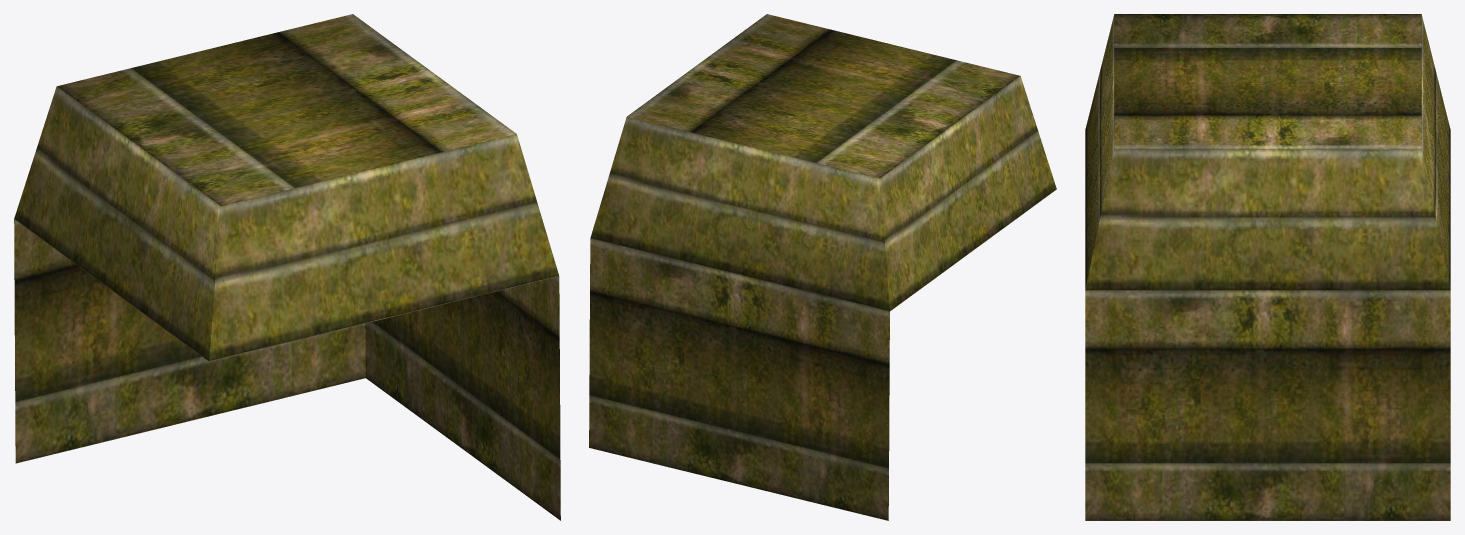
Rendered from OVERHILL_A_01_OBJECT291.fbx.
3 views of the same model, side by side, from view 1: azimuth 30°, elevation 25°; view 2: azimuth 150°, elevation 25°; view 3: azimuth 270°, elevation 25° (orthographic). The views are drawn at different scales.
Parts seen in each view (by area): view 1: OVERHILL_A_01_OBJECT291; view 2: OVERHILL_A_01_OBJECT291; view 3: OVERHILL_A_01_OBJECT291.
Boxes of the visible parts, x1=… form: OVERHILL_A_01_OBJECT291: x1=14, y1=14, x2=560, y2=520; OVERHILL_A_01_OBJECT291: x1=589, y1=14, x2=1056, y2=520; OVERHILL_A_01_OBJECT291: x1=1085, y1=14, x2=1450, y2=520.
Bounding box in the file's own units: 11892 × 12361 × 11426.
Materials: 2 (2 with a texture image).
